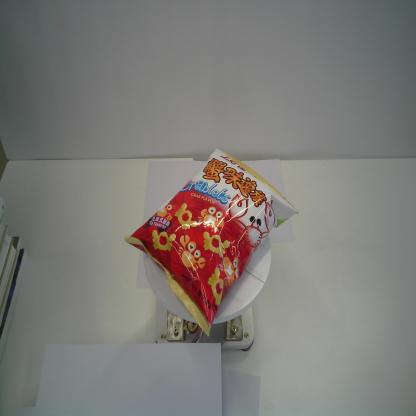Puffed Food: (124, 146, 298, 340)
